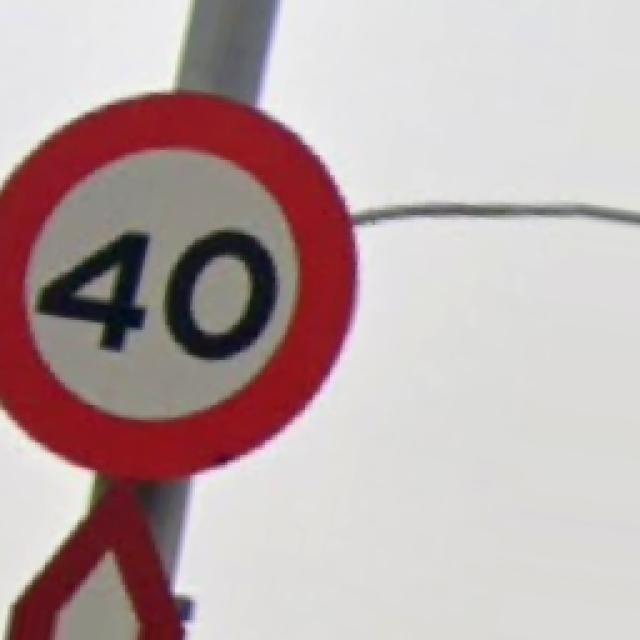Speed Limit -40-: (0, 95, 355, 478)
